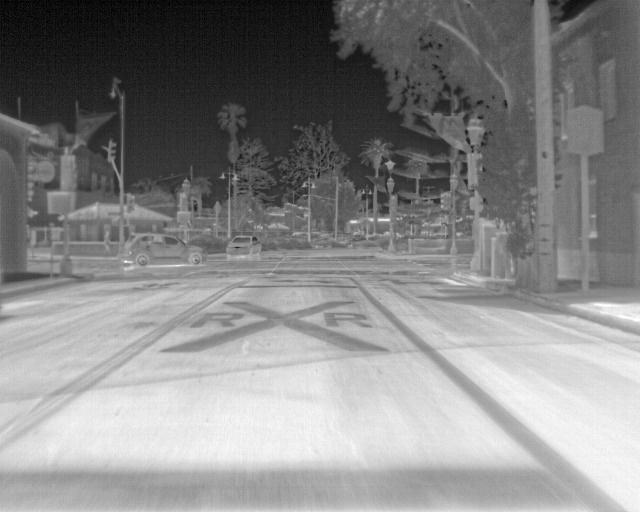bicycle: (123, 234, 205, 268), (223, 236, 261, 258)
